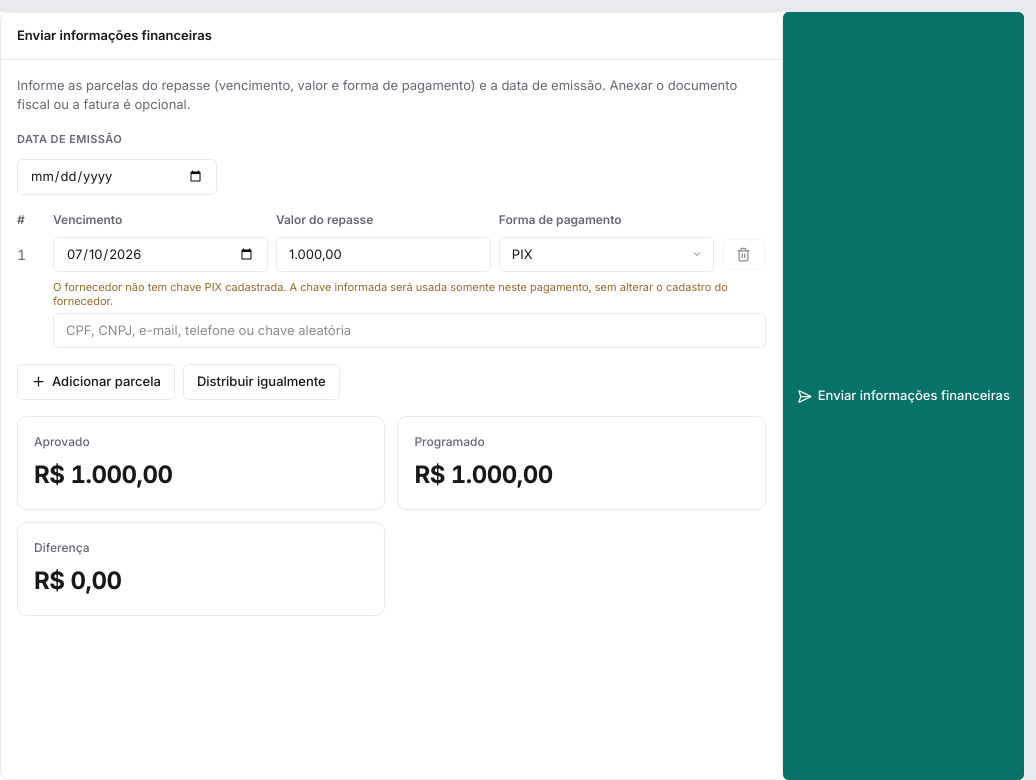
it: FinancialComplementForm › bloqueia o envio quando o boleto tem tamanho inválido
This screenshot has width=1036, height=780.
Type "2026-07-05" into the date field labelled "Data de emissão" at (117, 177), box 17,159 -> 217,194
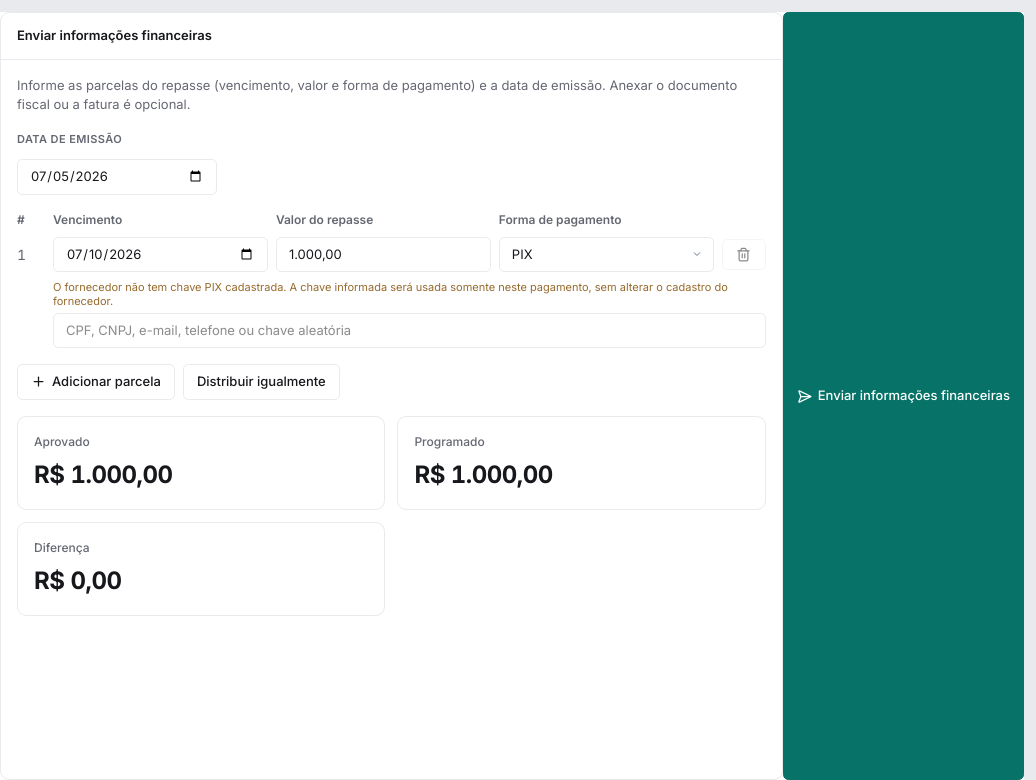
Select "Boleto" in the dropdown at (606, 254), box 499,236 -> 714,272
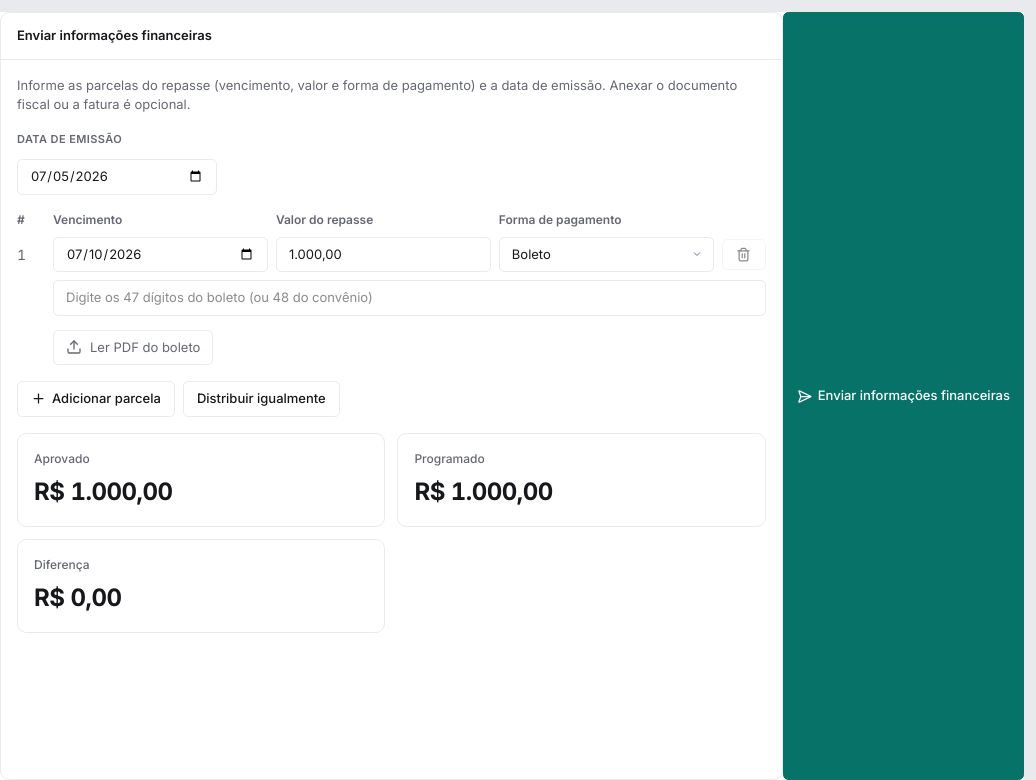
Type "12345" into the field named "Linha digitável do boleto" at (409, 298), box 53,280 -> 766,316
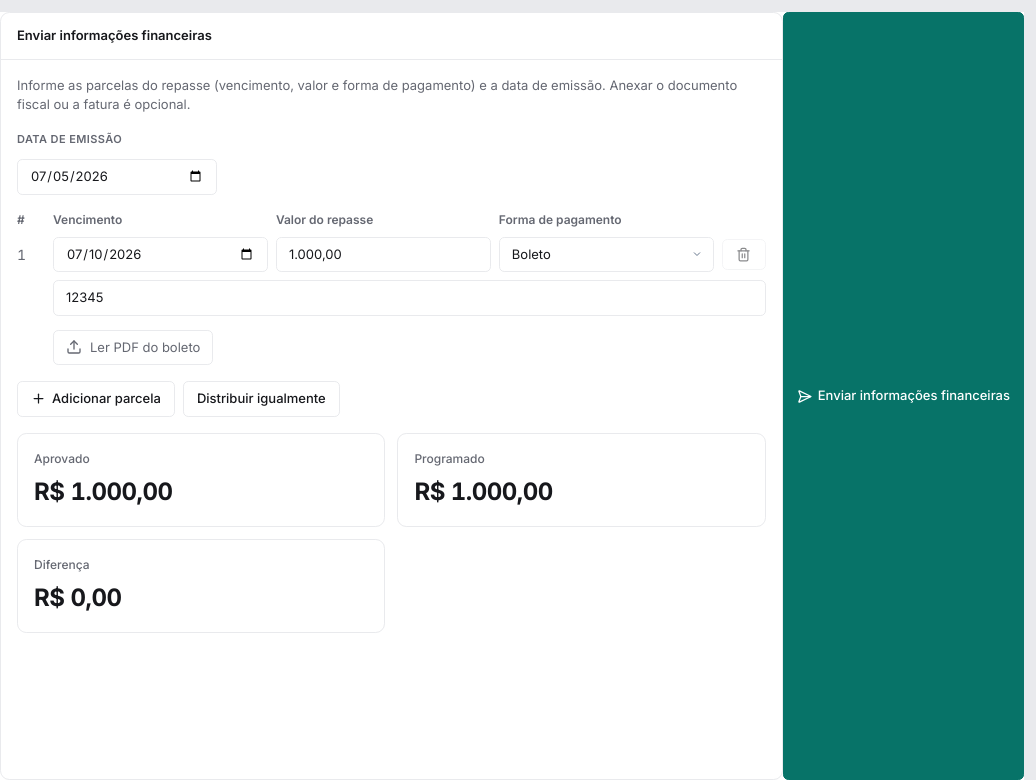
Click the button "Enviar informações financeiras" at (903, 396), box 783,12 -> 1024,779
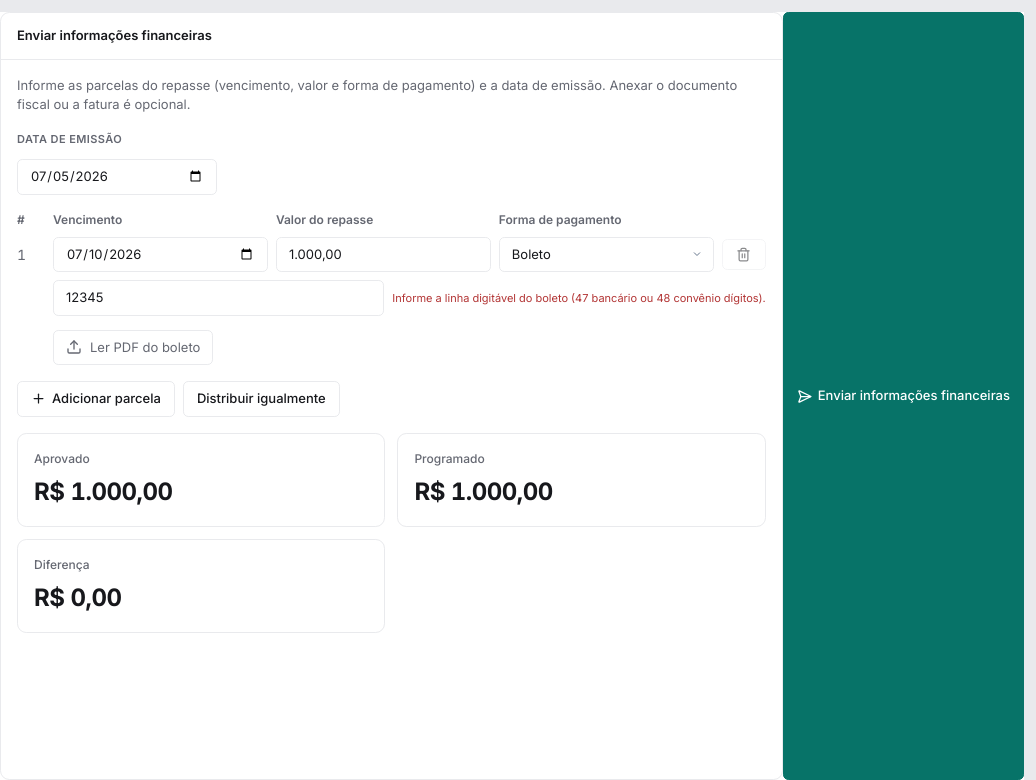
Expected: the text "Informe a linha digitável do boleto (47 bancário ou 48 convênio dígitos)." is shown, 392,290 -> 766,306
